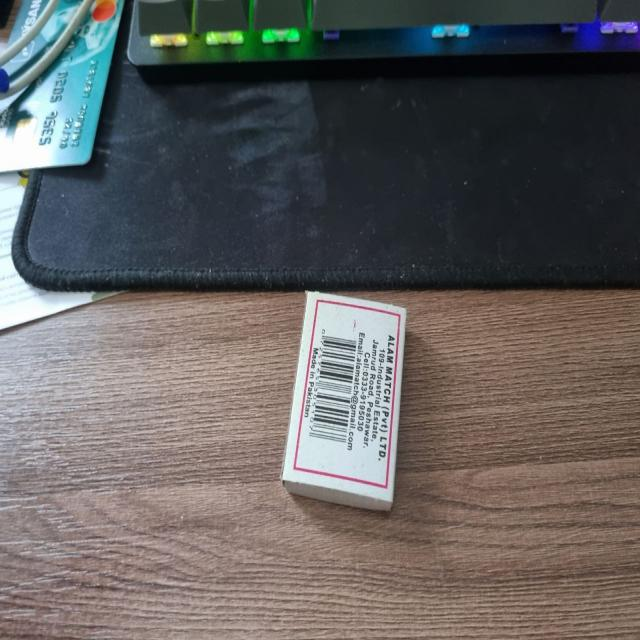match: (282, 284, 406, 520)
